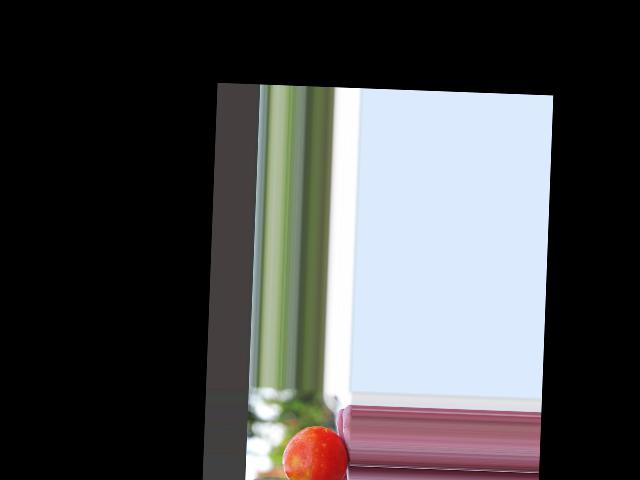tomato: (281, 425, 348, 480)
